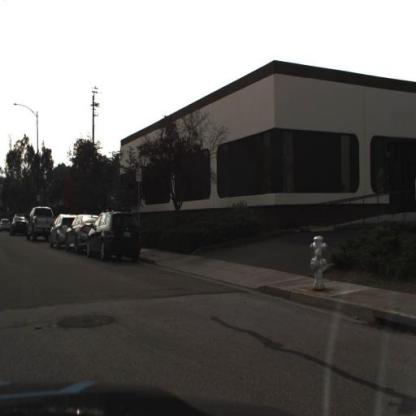car: (87, 208, 144, 265), (66, 211, 104, 257), (24, 206, 58, 243), (47, 213, 79, 250), (9, 210, 32, 238), (1, 213, 13, 235)
